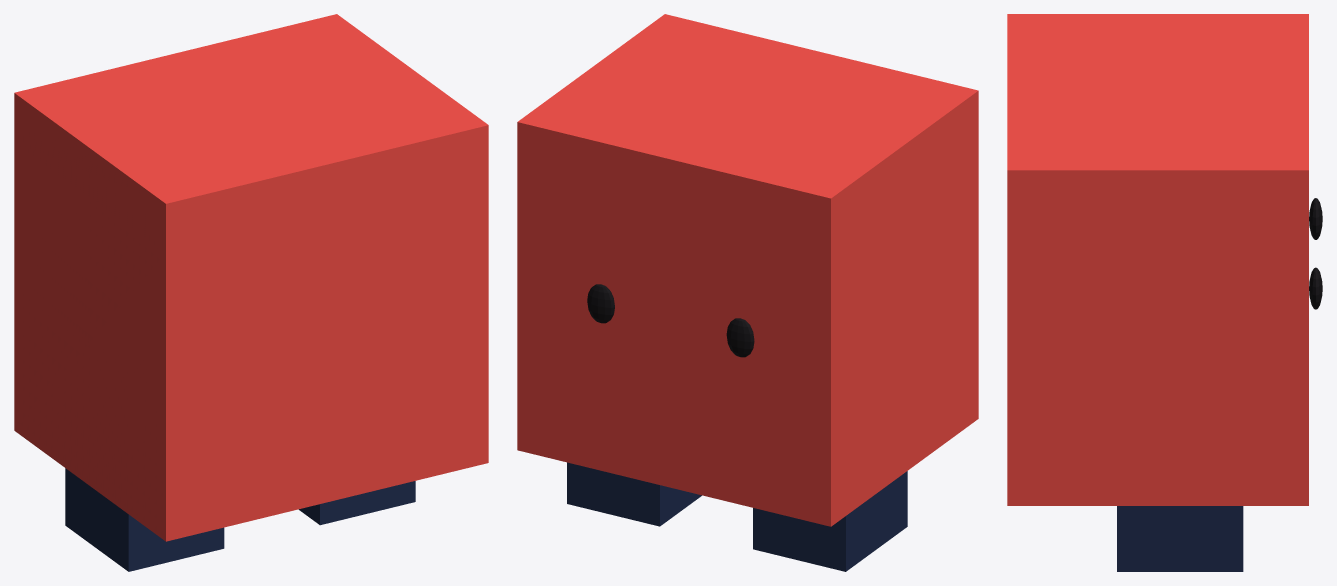
The model's file is BlockBot_Enemy.gltf.
The picture shows the model from 3 angles, left to right: view 1: azimuth 30°, elevation 25°; view 2: azimuth 150°, elevation 25°; view 3: azimuth 270°, elevation 25°; orthographic projection. The views are drawn at different scales.
Parts seen in each view (by area): view 1: CubeBody, PlainTop, FootL, FootR; view 2: CubeBody, PlainTop, FootL, FootR, DotEyeL, DotEyeR; view 3: CubeBody, PlainTop, FootR, DotEyeL, DotEyeR.
Part boxes in pixels (<box>): CubeBody: <box>14,143,488,541</box>; PlainTop: <box>14,14,488,253</box>; FootL: <box>65,468,224,571</box>; FootR: <box>298,481,415,525</box>; CubeBody: <box>517,139,978,526</box>; PlainTop: <box>517,14,978,246</box>; FootL: <box>753,471,907,571</box>; FootR: <box>567,462,701,526</box>; DotEyeL: <box>726,318,754,357</box>; DotEyeR: <box>587,284,614,323</box>; CubeBody: <box>1007,220,1308,505</box>; PlainTop: <box>1007,14,1308,220</box>; FootR: <box>1117,506,1243,571</box>; DotEyeL: <box>1309,198,1322,239</box>; DotEyeR: <box>1309,267,1322,309</box>.
Size of the model in its own units: 1.35 by 1.65 by 1.15.
